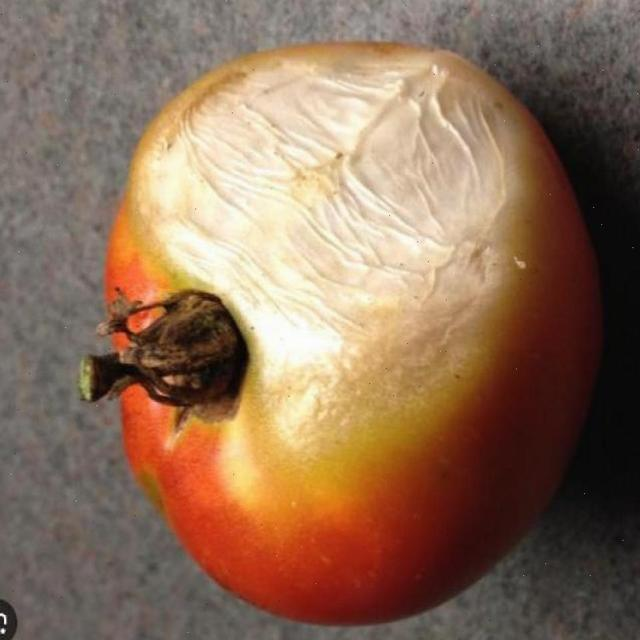Sunscald Fruit: (84, 28, 366, 298)
